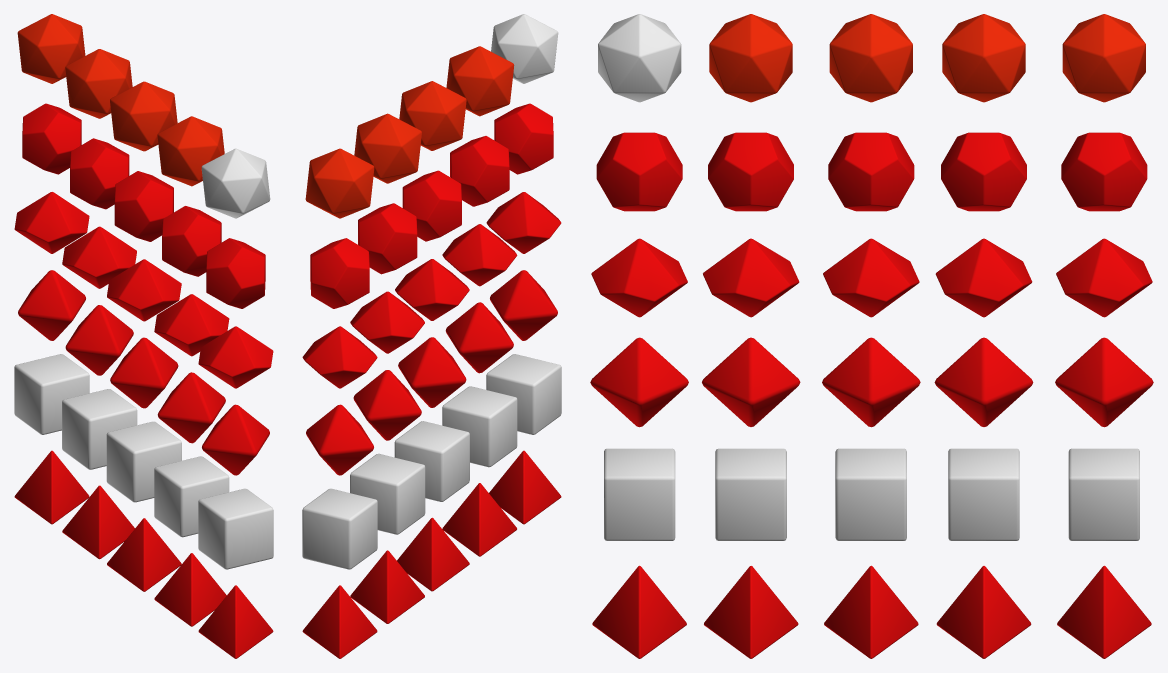
The model's file is DiceSet.fbx.
3 renders of one model, left to right at view 1: azimuth 30°, elevation 25°; view 2: azimuth 150°, elevation 25°; view 3: azimuth 270°, elevation 25°, orthographic. The views are drawn at different scales.
Parts seen in each view (by area): view 1: 6Yellow, 6Silver, 6White, 6TieDye, 6Red, 20Yellow, 12Yellow, 20White, 20Silver, 20TieDye, 20Red, 12White (+18 smaller); view 2: 6White, 6TieDye, 6Red, 6Silver, 6Yellow, 20White, 12White, 20Red, 20TieDye, 20Silver, 20Yellow, 12TieDye (+18 smaller); view 3: 6Silver, 6TieDye, 6Red, 6White, 6Yellow, 20Silver, 20White, 20Yellow, 20TieDye, 20Red, 12Silver, 12White (+18 smaller).
Part boxes in pixels (bbox=[...]): 6Yellow: bbox=[198, 488, 273, 569]; 6Silver: bbox=[106, 421, 181, 502]; 6White: bbox=[14, 354, 89, 434]; 6TieDye: bbox=[62, 389, 137, 469]; 6Red: bbox=[154, 456, 229, 537]; 20Yellow: bbox=[201, 148, 270, 218]; 12Yellow: bbox=[206, 238, 265, 308]; 20White: bbox=[17, 14, 85, 83]; 20Silver: bbox=[110, 81, 177, 151]; 20TieDye: bbox=[65, 49, 132, 118]; 20Red: bbox=[157, 116, 224, 186]; 12White: bbox=[22, 103, 81, 174]; 6White: bbox=[302, 488, 377, 569]; 6TieDye: bbox=[350, 453, 425, 534]; 6Red: bbox=[442, 386, 517, 467]; 6Silver: bbox=[394, 421, 469, 501]; 6Yellow: bbox=[486, 354, 561, 434]; 20White: bbox=[305, 148, 374, 218]; 12White: bbox=[310, 238, 369, 308]; 20Red: bbox=[446, 46, 514, 116]; 20TieDye: bbox=[354, 113, 421, 183]; 20Silver: bbox=[399, 81, 466, 150]; 20Yellow: bbox=[491, 14, 558, 83]; 12TieDye: bbox=[358, 203, 417, 274]; 6Silver: bbox=[835, 448, 906, 540]; 6TieDye: bbox=[948, 448, 1019, 540]; 6Red: bbox=[715, 448, 786, 540]; 6White: bbox=[1068, 448, 1139, 540]; 6Yellow: bbox=[604, 448, 675, 540]; 20Silver: bbox=[829, 14, 912, 102]; 20White: bbox=[1062, 14, 1145, 102]; 20Yellow: bbox=[598, 14, 681, 102]; 20TieDye: bbox=[942, 14, 1025, 102]; 20Red: bbox=[709, 14, 792, 102]; 12Silver: bbox=[828, 132, 914, 211]; 12White: bbox=[1061, 132, 1147, 211].
Size of the model in its own units: 170 by 1124 by 922.
